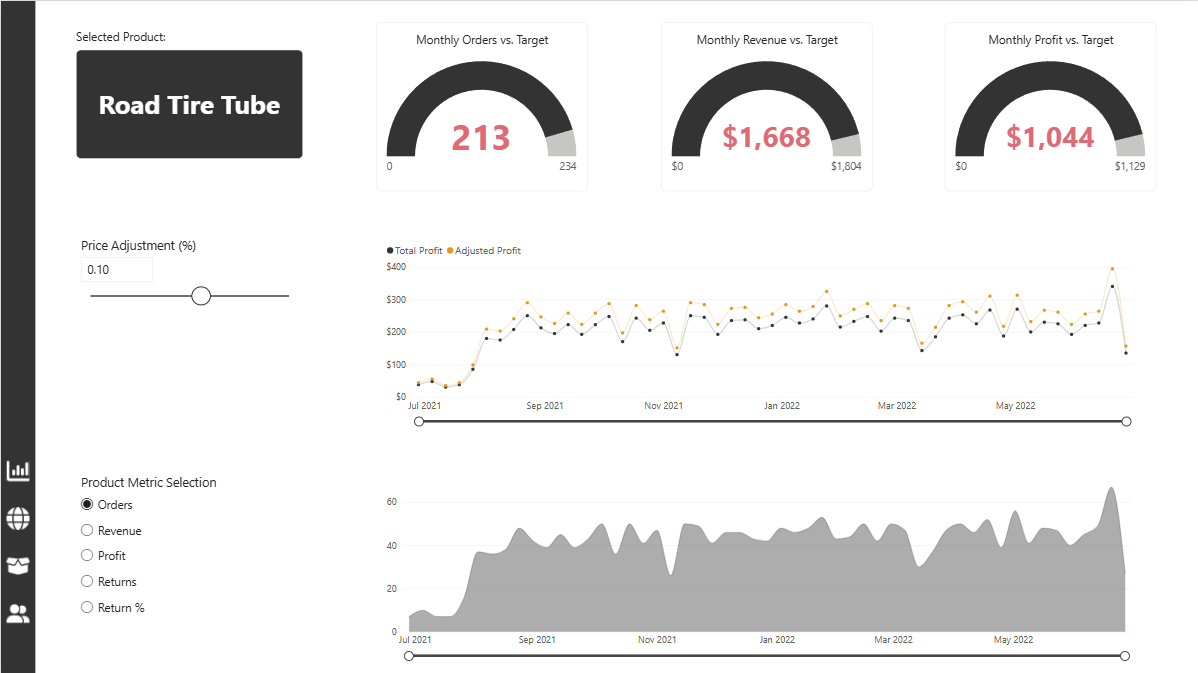

The dashboard page shown, as its layout file describes it:
{"tool":"powerbi","page":{"name":"Product Detail","canvas":[1920,1080],"ordinal":1},"visuals":[{"type":"shape","box":[0,0,55,1080],"z":0},{"type":"actionButton","box":[0,723.9,54.3,56.1],"z":0,"group":"g1"},{"type":"gauge","title":"Monthly Orders vs. Target","fields":{"MaxValue":["Measure Table.Order Target"],"Y":["Measure Table.Total Orders"]},"box":[600.3,34,338,270],"z":1000},{"type":"actionButton","box":[0,799.9,54.3,56.1],"z":1000,"group":"g1"},{"type":"gauge","title":"Monthly Revenue vs. Target","fields":{"MaxValue":["Measure Table.Revenue Target"],"Y":["Measure Table.Total Revenue"]},"box":[1055.1,34,338,270],"z":2000},{"type":"actionButton","box":[0,876,54.3,56.1],"z":2000,"group":"g1"},{"type":"gauge","title":"Monthly Profit vs. Target","fields":{"MaxValue":["Measure Table.Profit Target"],"Y":["Measure Table.Total Profit"]},"box":[1510,34,338,270],"z":3000},{"type":"actionButton","box":[0,952,54,56],"z":3000,"group":"g1"},{"type":"lineChart","title":"Profit Trending","fields":{"Category":["Calendar Lookup.New Date Hierarchy.Year","Calendar Lookup.New Date Hierarchy.Start of Month","Calendar Lookup.New Date Hierarchy.Start of Week","Calendar Lookup.New Date Hierarchy.Date"],"Y":["Measure Table.Total Profit","Measure Table.Adjusted Profit"]},"box":[600,368,1248,326],"z":4000},{"type":"areaChart","title":"Returns Trending","fields":{"Category":["Calendar Lookup.New Date Hierarchy.Year","Calendar Lookup.New Date Hierarchy.Start of Month","Calendar Lookup.New Date Hierarchy.Start of Week","Calendar Lookup.New Date Hierarchy.Date"],"Y":["Measure Table.Total Orders"]},"box":[600.8,743.8,1246.9,325.7],"z":5000},{"type":"card","fields":{"Values":["Min(Product Lookup.ProductName)"]},"box":[120.6,78.6,362.9,174.3],"z":6000},{"type":"textbox","box":[120.8,43.8,327.5,48.9],"z":7000},{"type":"slicer","fields":{"Values":["Price Adjustment (%).Price Adjustment (%)"]},"box":[120,376.7,361.7,155],"z":8000},{"type":"slicer","fields":{"Values":["Product Metric Selection.Product Metric Selection"]},"box":[120,755.7,361.4,262.9],"z":9000},{"type":"group","id":"g1","title":"Navigation Buttons","box":[0,723.9,54.3,284.1],"z":10000}]}

Visuals, with their boxes on the page's 1920x1080 design canvas (x1, y1, x2, y2). These are canvas units, not pixel positions in the 1198x673 screenshot, which may show the page scaled, cropped or inside an application window:
shape: bbox=[0, 0, 55, 1080]
actionButton: bbox=[0, 724, 54, 780]
"Monthly Orders vs. Target" gauge: bbox=[600, 34, 938, 304]
actionButton: bbox=[0, 800, 54, 856]
"Monthly Revenue vs. Target" gauge: bbox=[1055, 34, 1393, 304]
actionButton: bbox=[0, 876, 54, 932]
"Monthly Profit vs. Target" gauge: bbox=[1510, 34, 1848, 304]
actionButton: bbox=[0, 952, 54, 1008]
"Profit Trending" lineChart: bbox=[600, 368, 1848, 694]
"Returns Trending" areaChart: bbox=[601, 744, 1848, 1070]
card - Min(Product Lookup.ProductName): bbox=[121, 79, 484, 253]
textbox: bbox=[121, 44, 448, 93]
slicer - Price Adjustment (%).Price Adjustment (%): bbox=[120, 377, 482, 532]
slicer - Product Metric Selection.Product Metric Selection: bbox=[120, 756, 481, 1019]
"Navigation Buttons" group: bbox=[0, 724, 54, 1008]
